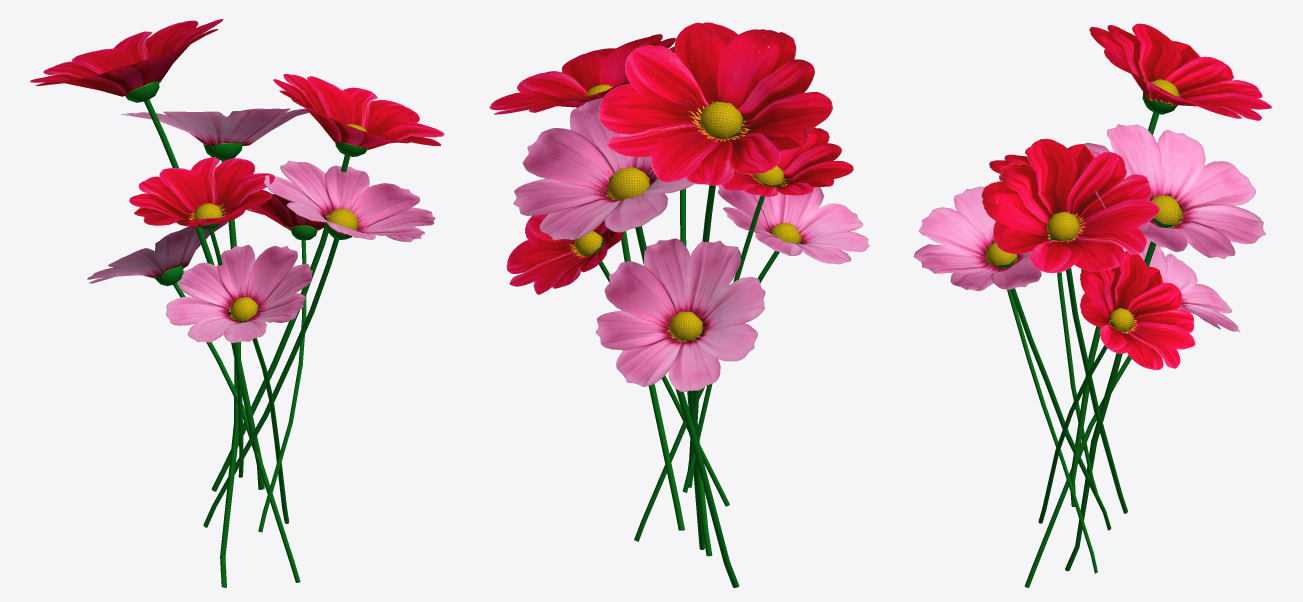
File: M_flower.fbx
3 renders of one model, left to right at view 1: azimuth 30°, elevation 25°; view 2: azimuth 150°, elevation 25°; view 3: azimuth 270°, elevation 25°, orthographic. The views are drawn at different scales.
Visible parts, largest first — view 1: Cylinder.003; view 2: Cylinder.003; view 3: Cylinder.003.
Boxes of the visible parts, bbox=[...] form: Cylinder.003: bbox=[30, 19, 444, 587]; Cylinder.003: bbox=[489, 22, 869, 587]; Cylinder.003: bbox=[913, 23, 1271, 587].
Size of the model in its own units: 72.14 by 103 by 68.02.
